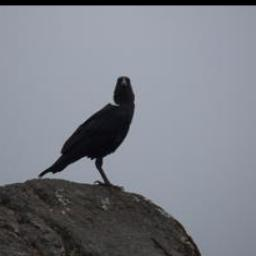Crow: (39, 74, 137, 188)
